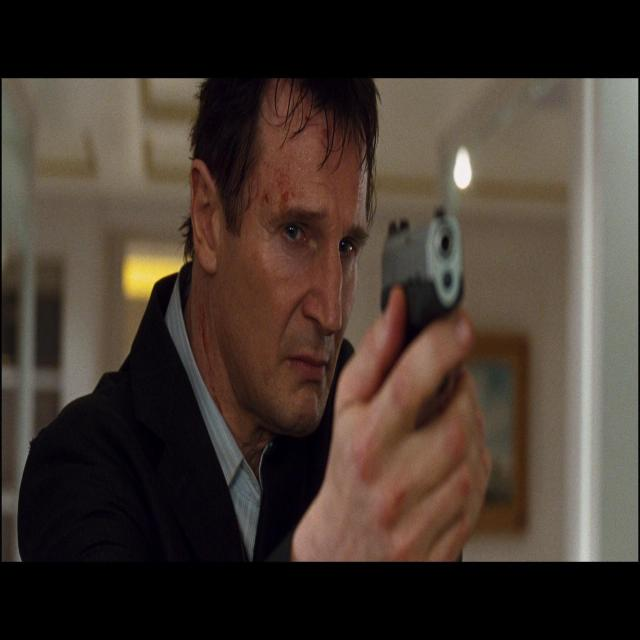no-earmuff: (173, 142, 240, 310)
